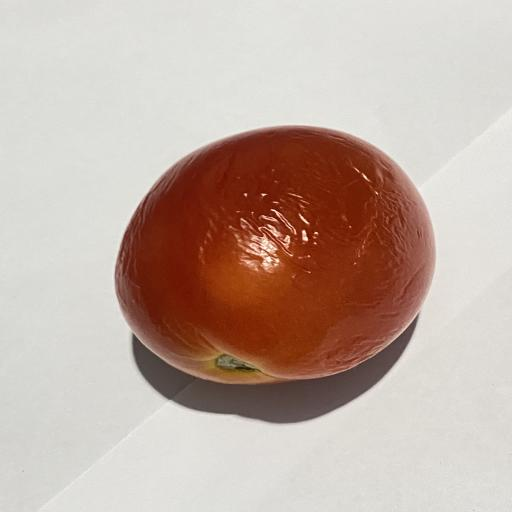spoiled: (115, 126, 435, 384), (116, 126, 435, 384)
